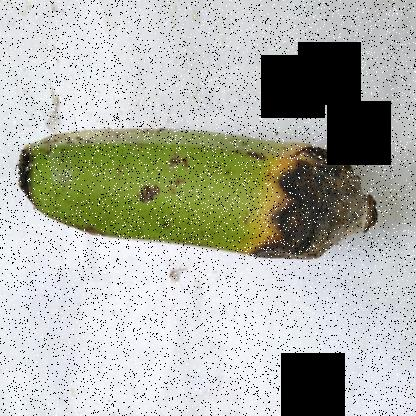rotten: (242, 116, 396, 289), (7, 130, 51, 232)
